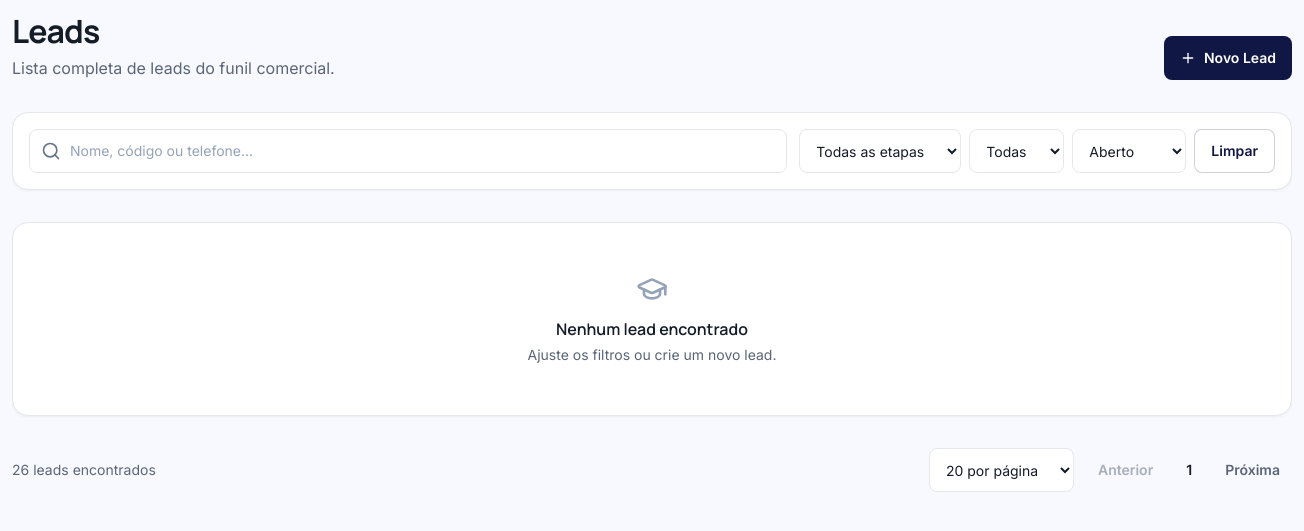
Scenario: LeadsPage — persistência de filtros na URL (Fase 7) › alterar filtro atualiza a URL
Select "Ganho" in the dropdown named "Filtrar por status" at (1129, 151), box [1072,129,1186,173]
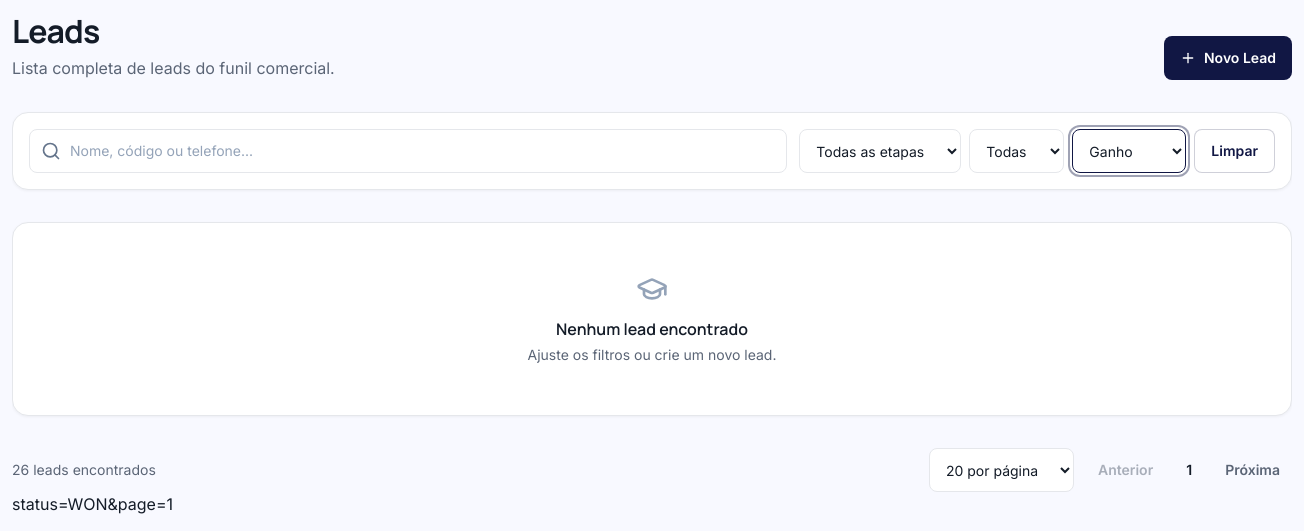
Check: the text with test id "location-search" shows "status=WON", box [12,494,173,514]
